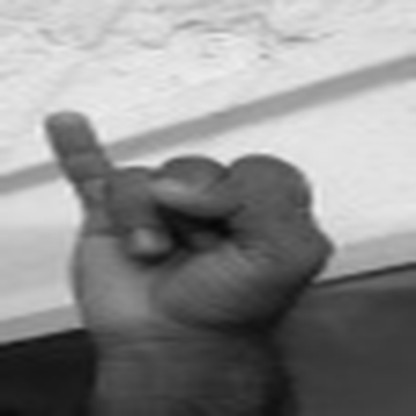i: (34, 100, 341, 338)
